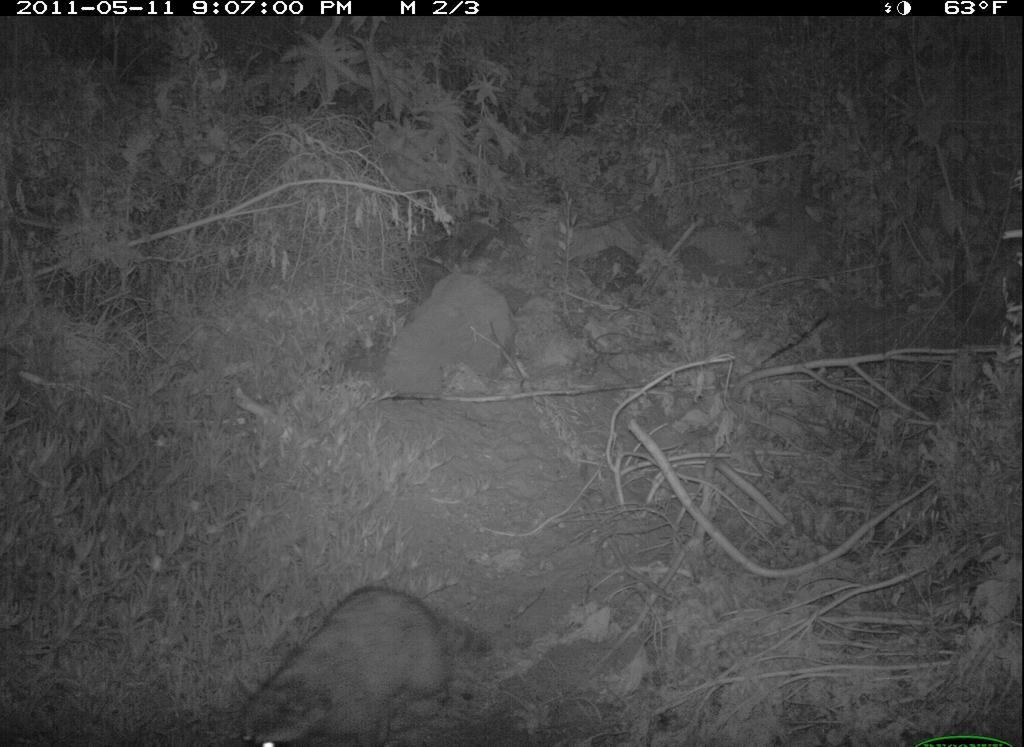raccoon: (239, 569, 497, 747)
